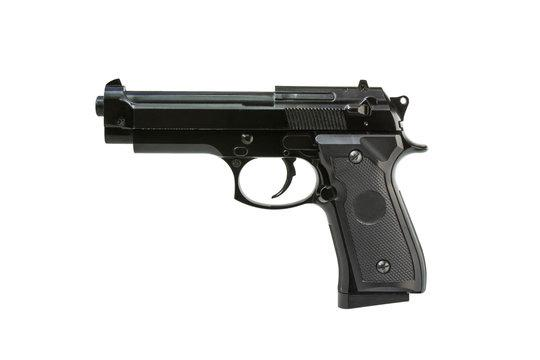gun: (75, 83, 483, 317)
